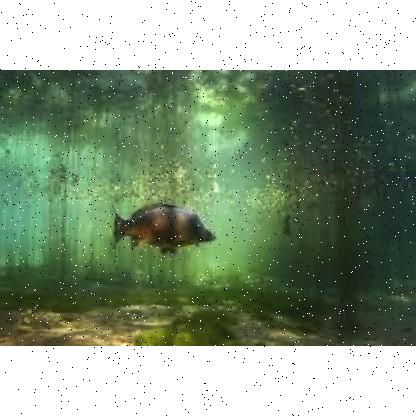ikan-mas: (107, 199, 223, 248)
